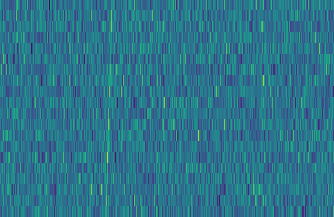signal: (99, 0, 114, 217)
